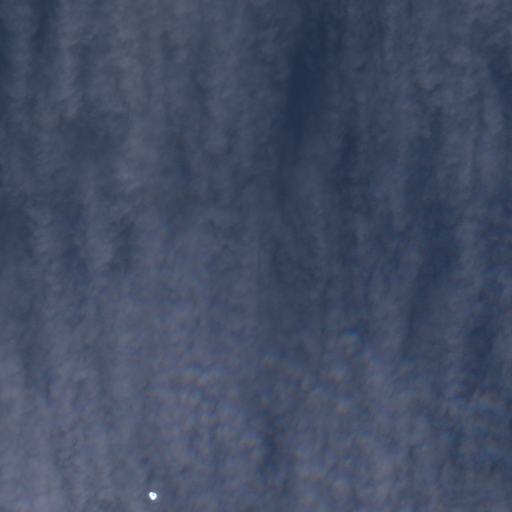Iceberg: (149, 492, 156, 499)
